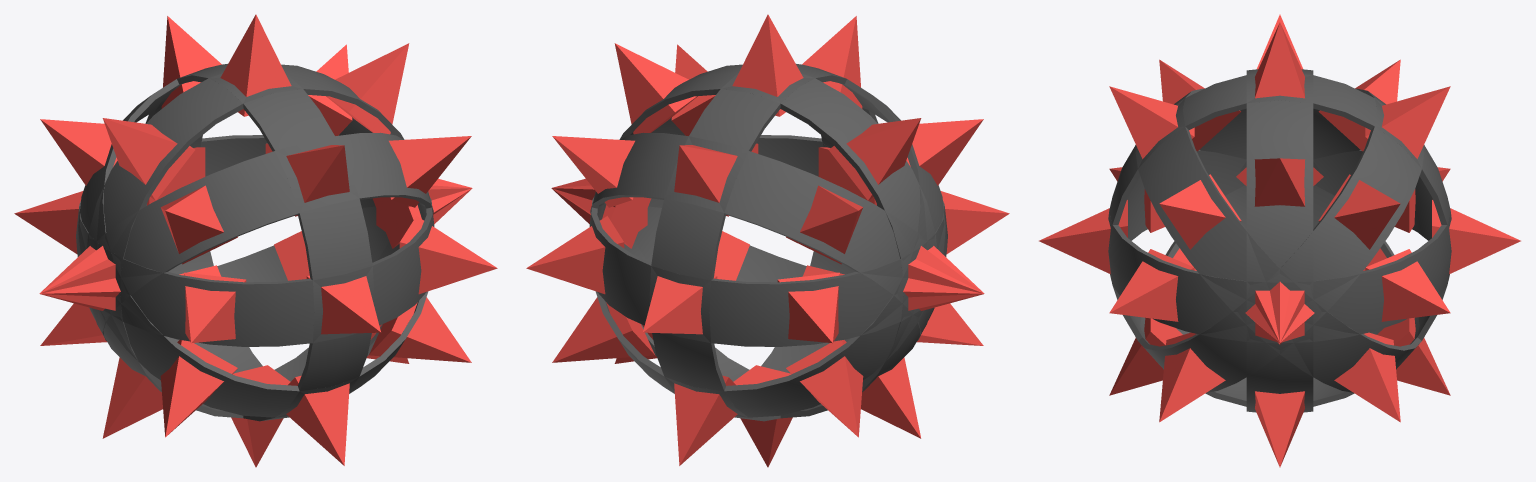
The model's file is Titanium_.fbx.
The picture shows the model from 3 angles, left to right: view 1: azimuth 30°, elevation 25°; view 2: azimuth 150°, elevation 25°; view 3: azimuth 270°, elevation 25°; orthographic projection. The views are drawn at different scales.
Parts seen in each view (by area): view 1: Titanium, Titanium.003, Titanium.001, Titanium.004, Titanium.002; view 2: Titanium, Titanium.002, Titanium.003, Titanium.001, Titanium.004; view 3: Titanium, Titanium.002, Titanium.003, Titanium.001, Titanium.004.
Boxes of the visible parts, x1=… form: Titanium: x1=14, y1=135, x2=497, y2=346; Titanium.003: x1=39, y1=132, x2=471, y2=345; Titanium.001: x1=40, y1=14, x2=469, y2=438; Titanium.004: x1=145, y1=64, x2=380, y2=467; Titanium.002: x1=40, y1=16, x2=471, y2=437; Titanium: x1=526, y1=135, x2=1009, y2=346; Titanium.002: x1=552, y1=132, x2=983, y2=345; Titanium.003: x1=552, y1=16, x2=984, y2=465; Titanium.001: x1=551, y1=14, x2=936, y2=467; Titanium.004: x1=643, y1=14, x2=878, y2=467; Titanium: x1=1108, y1=150, x2=1520, y2=343; Titanium.002: x1=1109, y1=59, x2=1449, y2=422; Titanium.003: x1=1109, y1=59, x2=1449, y2=422; Titanium.001: x1=1246, y1=14, x2=1313, y2=467; Titanium.004: x1=1039, y1=22, x2=1451, y2=406.
Bounding box in the file's own units: 1592 × 1592 × 1592.
